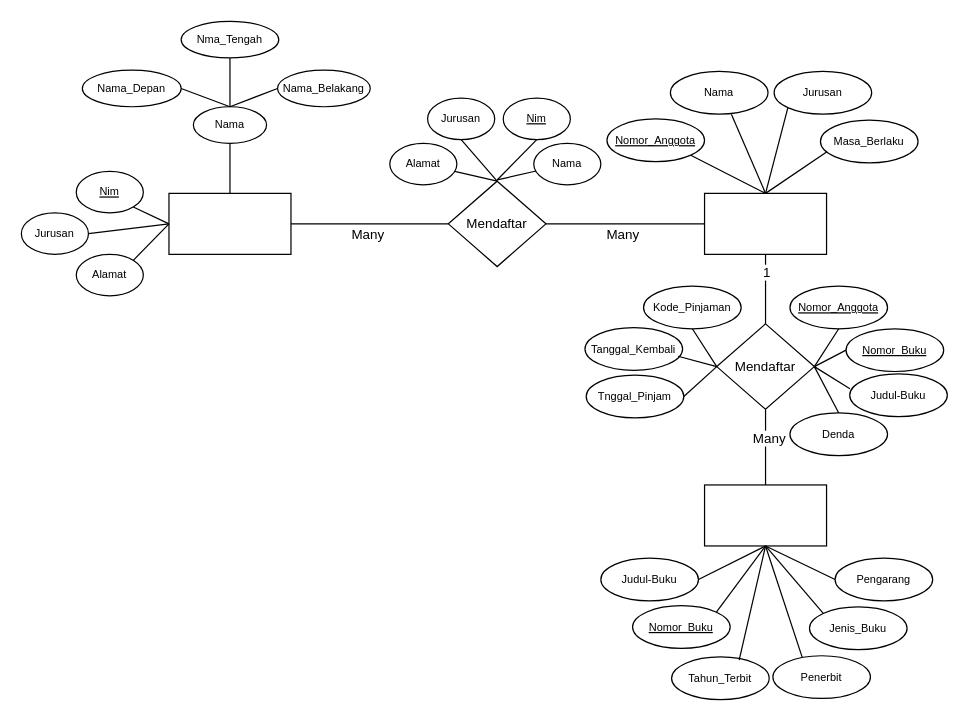
Image size: 969x721. Some labels were removed from this diagram. The centre of each missing label's shape, as x and y in pixels:
Anggota Perpustakaan: [765,223]
Buku: [765,515]
Mahasiswa: [229,223]
